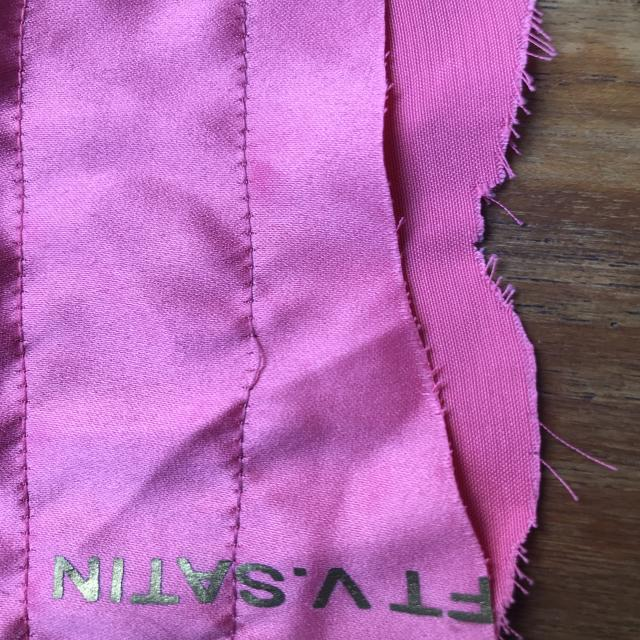skip: (231, 317, 288, 402)
